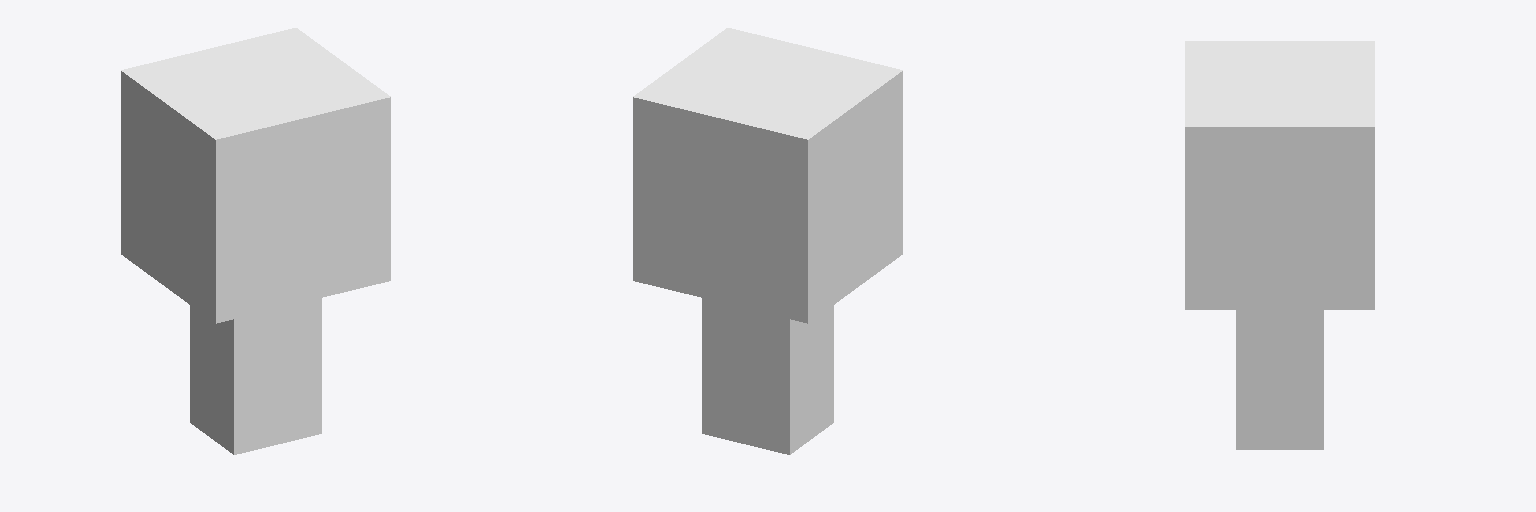
File: treeMedium.obj
The picture shows the model from 3 angles: view 1: azimuth 30°, elevation 25°; view 2: azimuth 150°, elevation 25°; view 3: azimuth 270°, elevation 25°; orthographic projection.
Visible parts, largest first — view 1: treeMedium; view 2: treeMedium; view 3: treeMedium.
Part boxes in pixels (x1,y1,x2,y2): treeMedium: (121, 28, 390, 454); treeMedium: (633, 28, 902, 454); treeMedium: (1185, 41, 1374, 449).
Size of the model in its own units: 16 by 30 by 15.